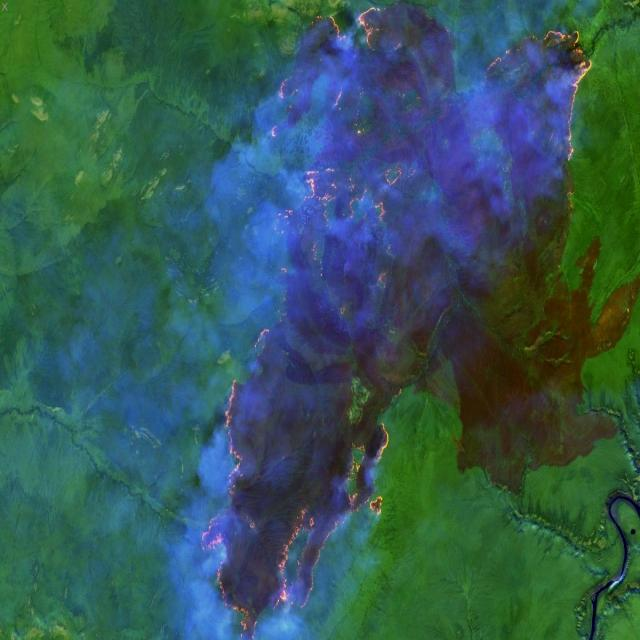fire: (258, 0, 596, 291), (196, 320, 393, 640)
